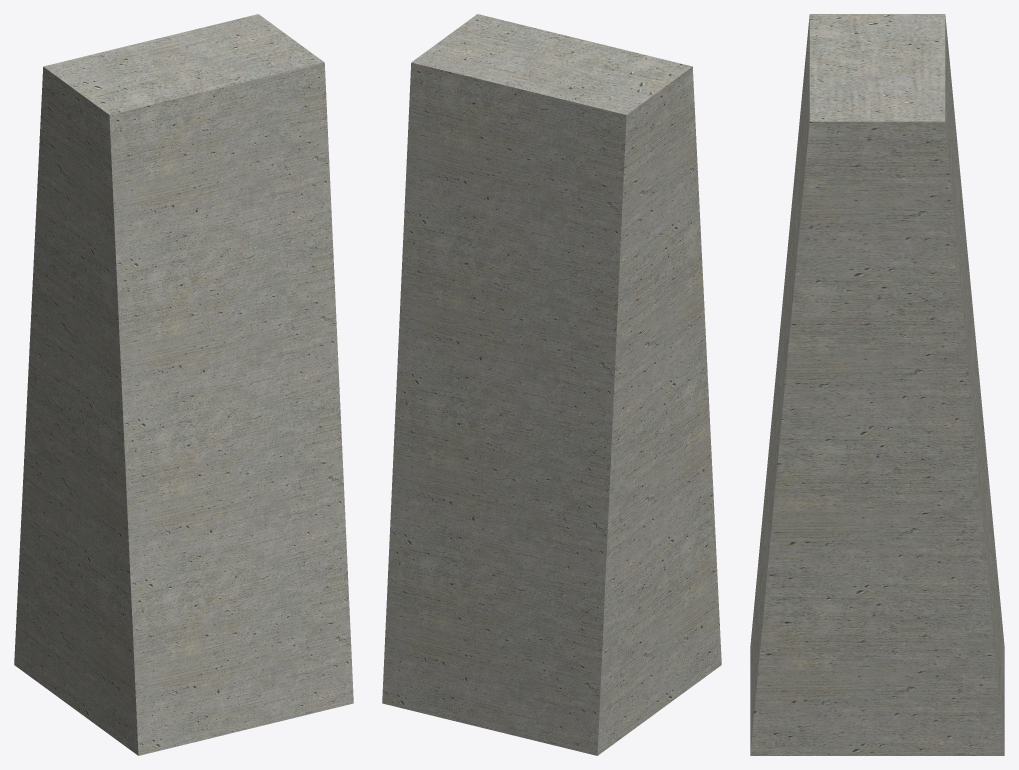
Rendered from thm_corl_imprv_column_s04_l1.fbx.
The picture shows the model from 3 angles, left to right: view 1: azimuth 30°, elevation 25°; view 2: azimuth 150°, elevation 25°; view 3: azimuth 270°, elevation 25°; orthographic projection. The views are drawn at different scales.
Parts seen in each view (by area): view 1: mesh_node; view 2: mesh_node; view 3: mesh_node.
Part boxes in pixels (bbox=[...]): mesh_node: bbox=[14, 14, 353, 755]; mesh_node: bbox=[382, 14, 721, 755]; mesh_node: bbox=[750, 14, 1004, 755].
Size of the model in its own units: 2 by 5.5 by 2.
Materials: 1 (1 with a texture image).
